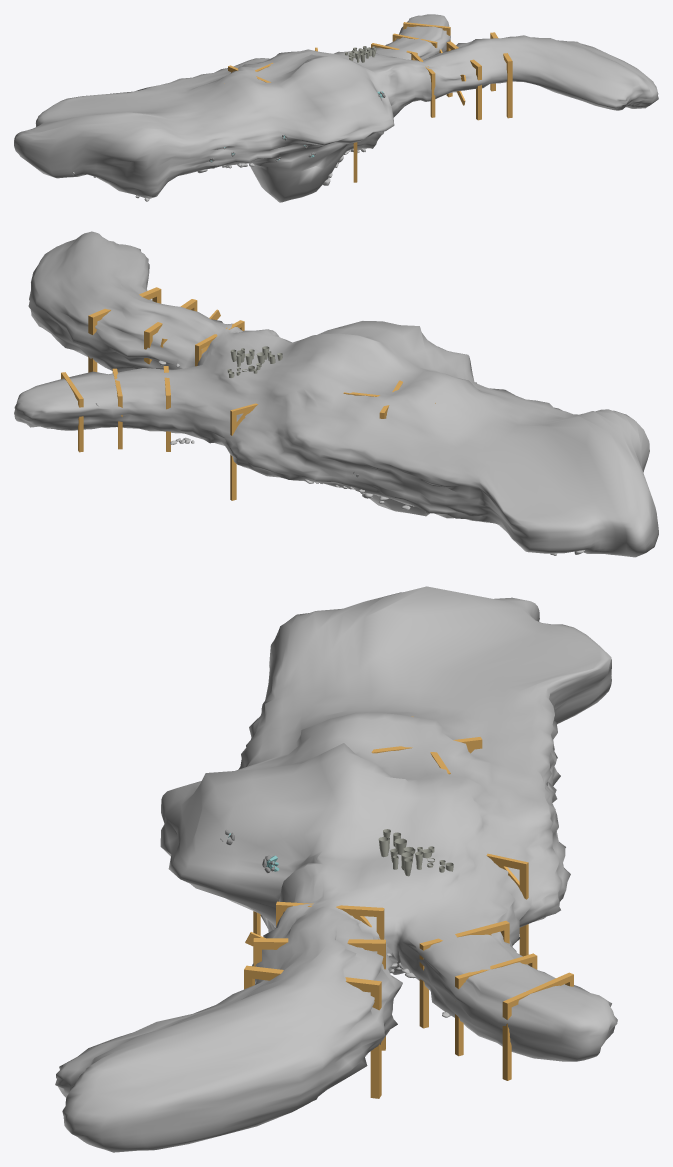
File: cave_mines.glb
3 renders of one model, top to bottom at view 1: azimuth 30°, elevation 25°; view 2: azimuth 150°, elevation 25°; view 3: azimuth 270°, elevation 25°, orthographic. The views are drawn at different scales.
Visible parts, largest first — view 1: Cube_001, Wooden_14_006, Wooden_14_005, Wooden_14_004, rock_7_mid_004; view 2: Cube_001, Wooden_07_002, Wooden_14_006; view 3: Cube_001, Wooden_14_006, Wooden_14_003, Wooden_14_001, Wooden_14_005, Wooden_07_002, Wooden_14_004, Wooden_14_002.
Part boxes in pixels (x1,y1,x2,y2): Cube_001: (14,14,658,202); Wooden_14_006: (490,32,512,118); Wooden_14_005: (446,41,481,120); Wooden_14_004: (411,52,435,117); rock_7_mid_004: (72,33,401,201); Cube_001: (14,231,658,557); Wooden_07_002: (230,403,257,500); Wooden_14_006: (88,287,161,372); Cube_001: (55,586,617,1152); Wooden_14_006: (244,965,381,1098); Wooden_14_003: (502,972,573,1080); Wooden_14_001: (419,920,509,1028); Wooden_14_005: (253,938,385,1050); Wooden_07_002: (486,853,528,964); Wooden_14_004: (276,901,384,939); Wooden_14_002: (455,953,537,1056).
Size of the model in its own units: 97.21 by 21.72 by 44.19.
